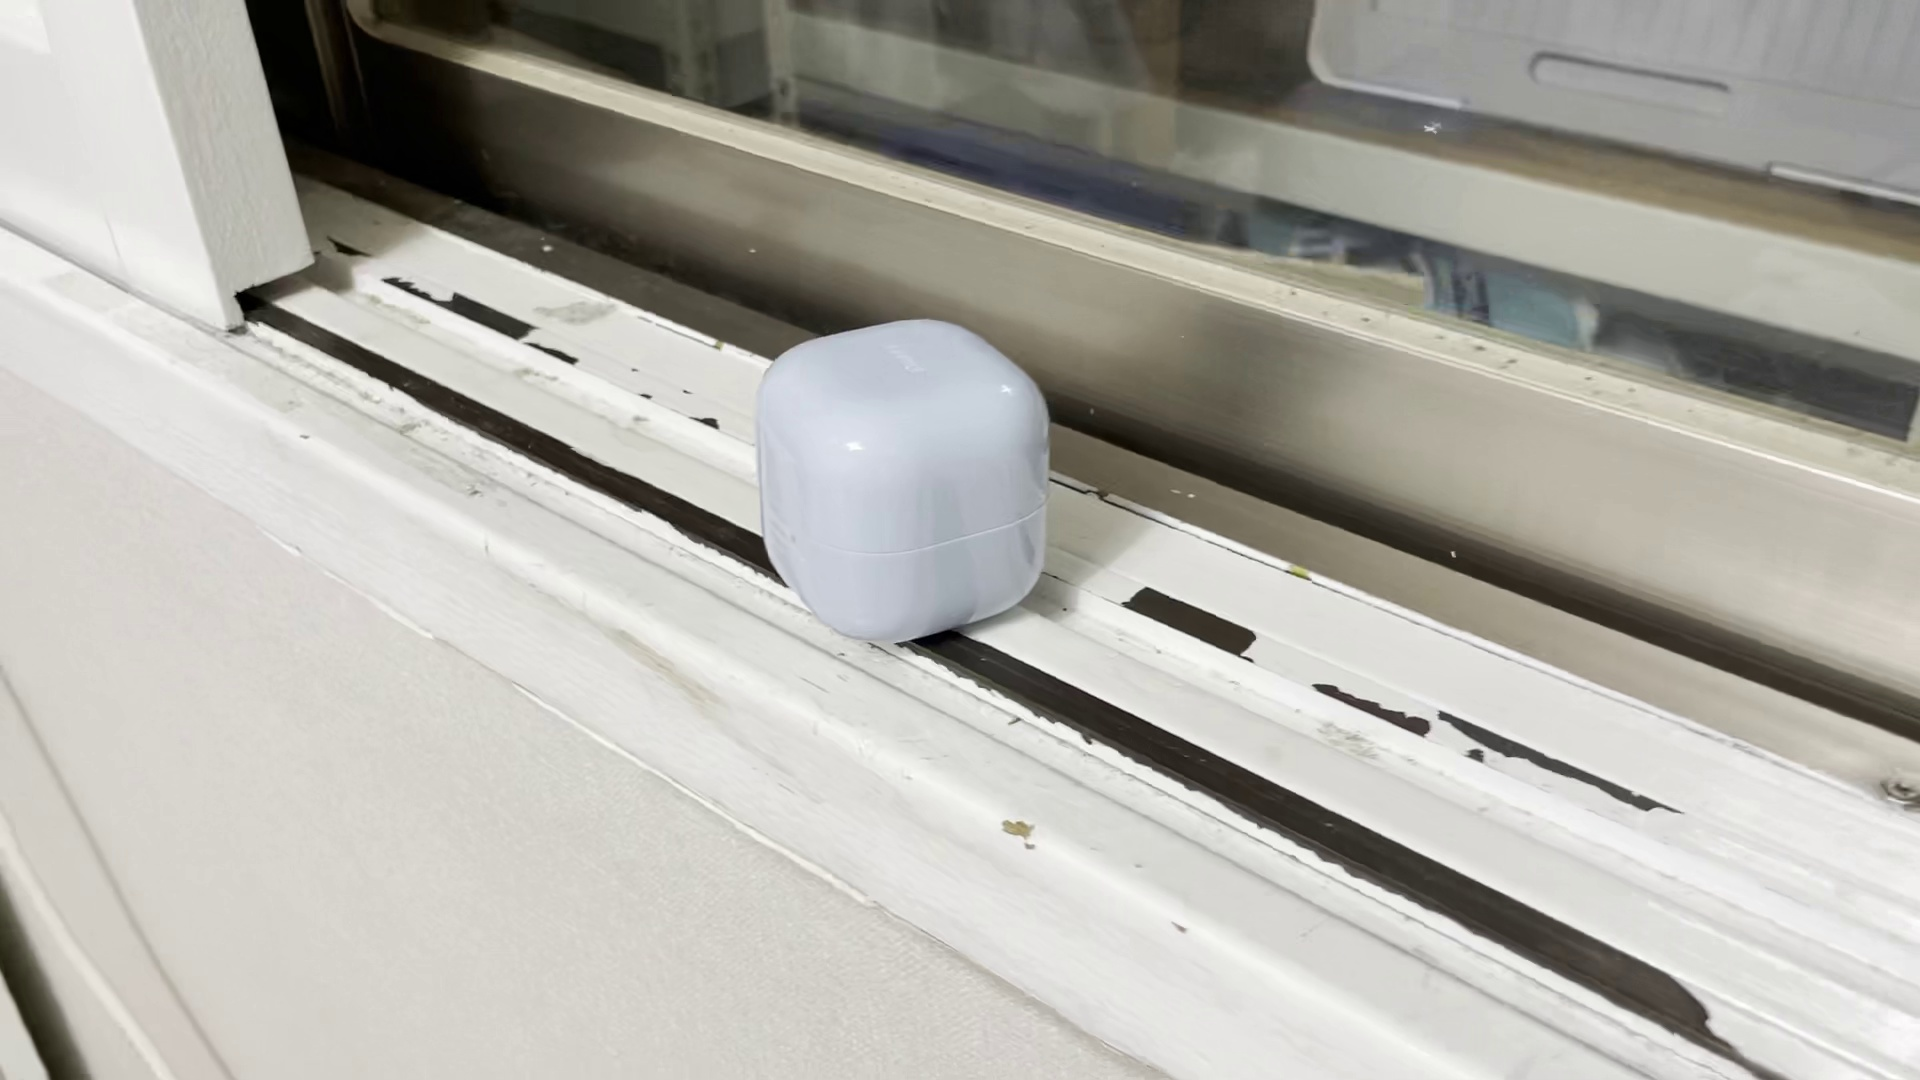cream: (757, 316, 1050, 637)
